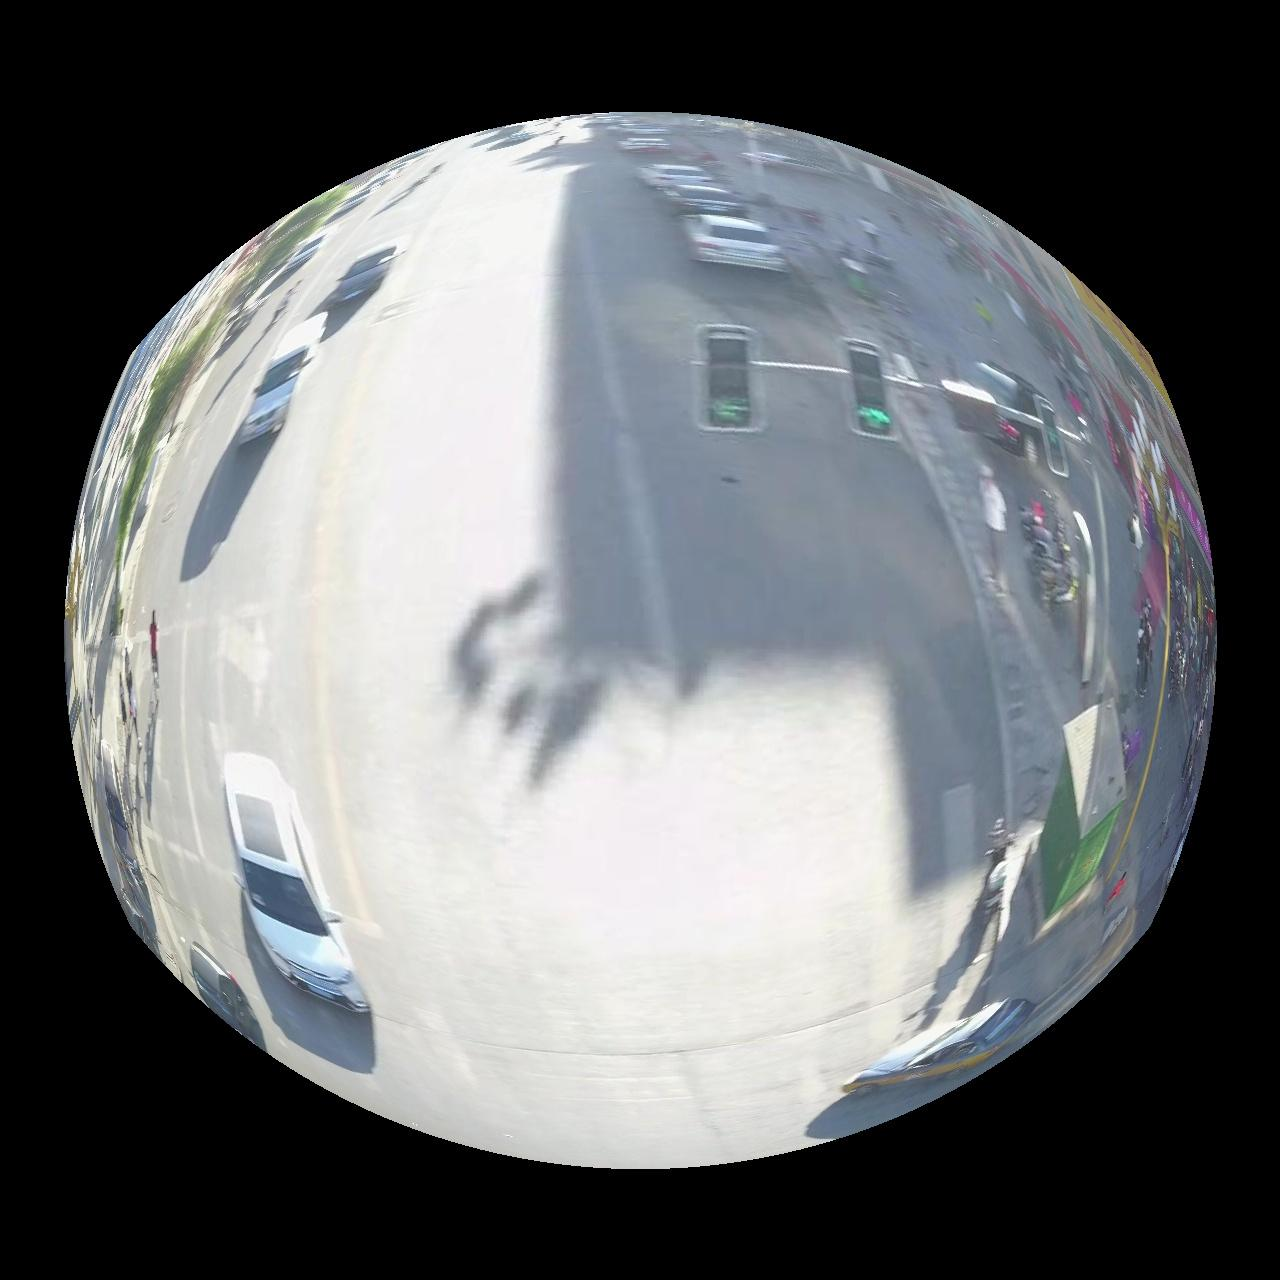cars: (223, 754, 368, 1014), (846, 1001, 1037, 1094), (234, 312, 326, 444), (686, 213, 788, 270)
